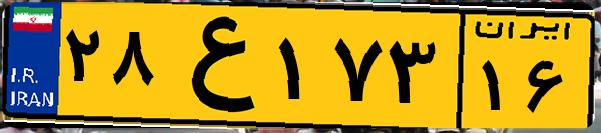1: (270, 28, 330, 110), (475, 38, 525, 113)
2: (57, 26, 110, 100)
3: (385, 28, 445, 110)
6: (525, 38, 570, 115)
7: (330, 28, 385, 110)
8: (110, 28, 158, 98)
ع: (158, 12, 270, 120)
